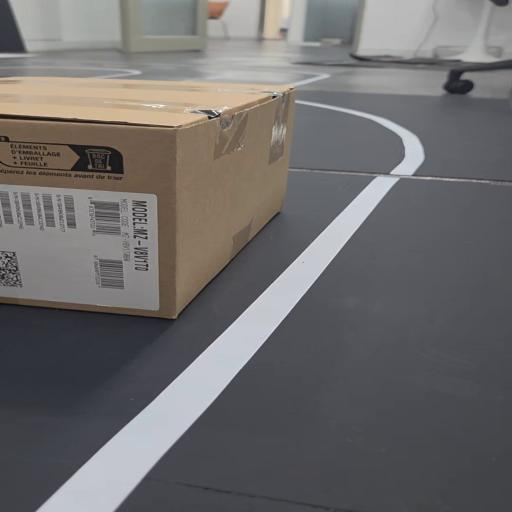Box: (0, 72, 319, 324)
